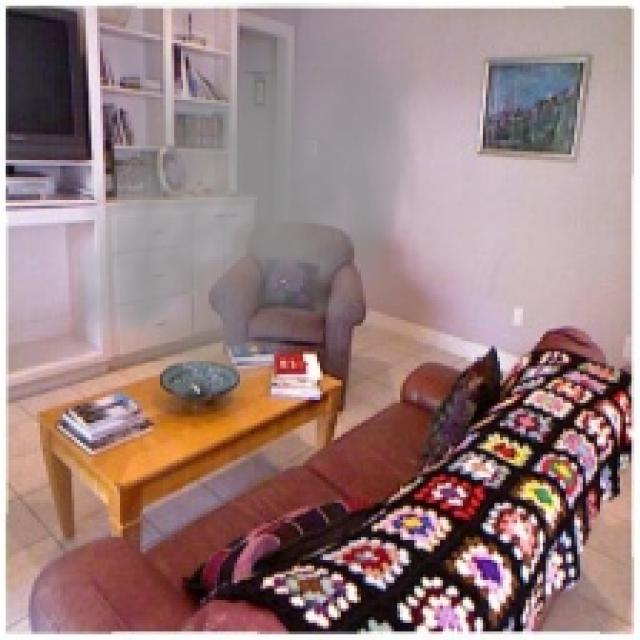smoke: (77, 3, 420, 414)
